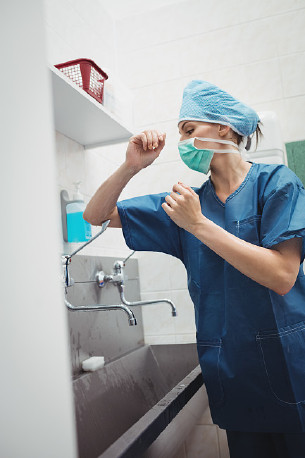face_mask: (177, 109, 218, 175)
